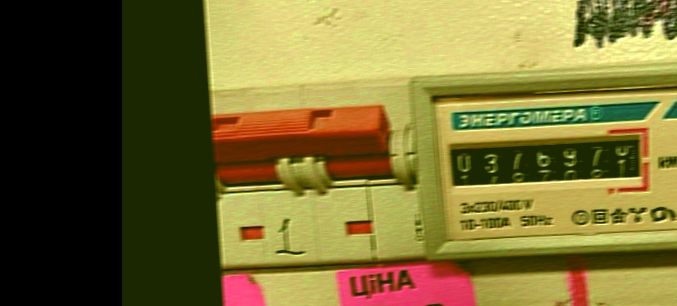0: (457, 152, 472, 175)
1: (616, 159, 629, 179)
3: (484, 153, 501, 176)
6: (536, 146, 552, 170)
7: (509, 148, 525, 172), (590, 145, 605, 169)
9: (562, 146, 578, 170)
screen: (440, 123, 655, 210)
